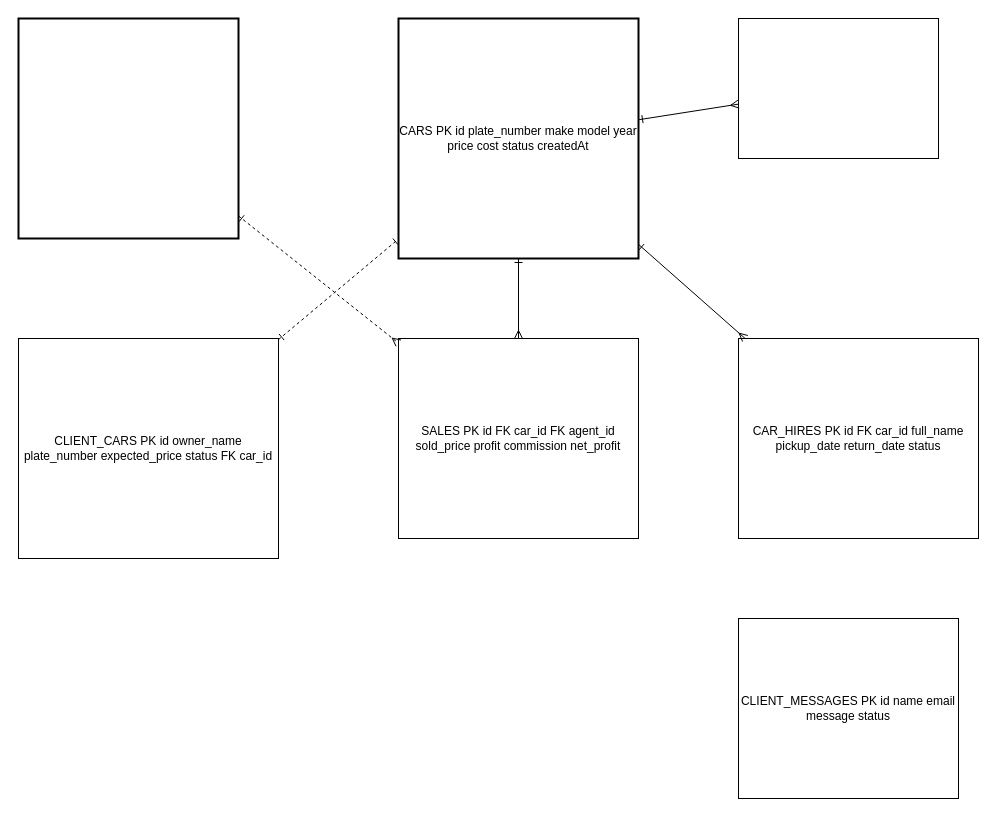
Image size: 996x816. Some labels were removed from this diagram. The shapes that lost their labels are listed below. From the top down, each one's centre as x and y in pixels, then its label:
(838,88): CAR_IMAGES PK id FK car_id image_path
(128,128): USERS PK id name email phone password role status created_at updated_at
